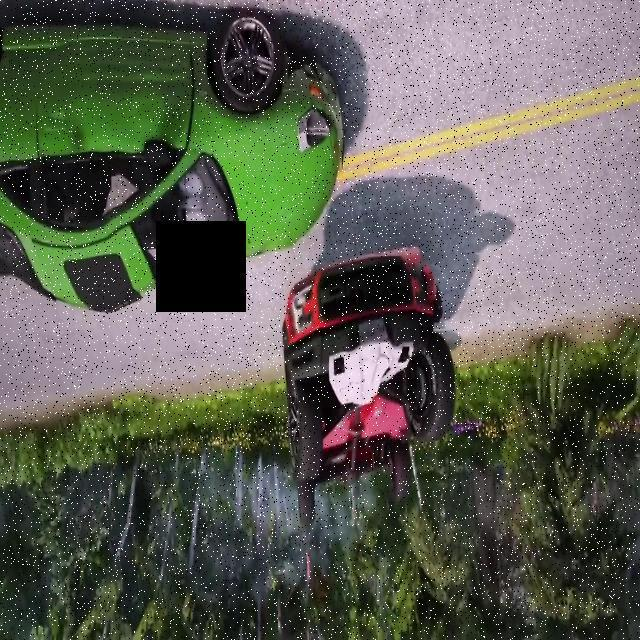person: (258, 232, 500, 512)
